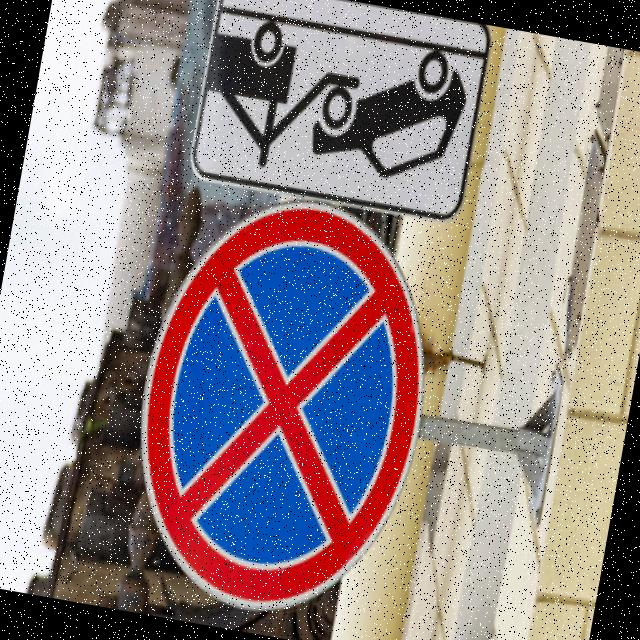no_parking: (88, 171, 462, 640)
